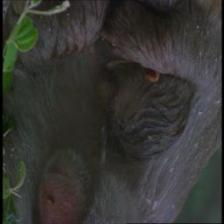monkey: (20, 150, 100, 223), (84, 62, 140, 145)
